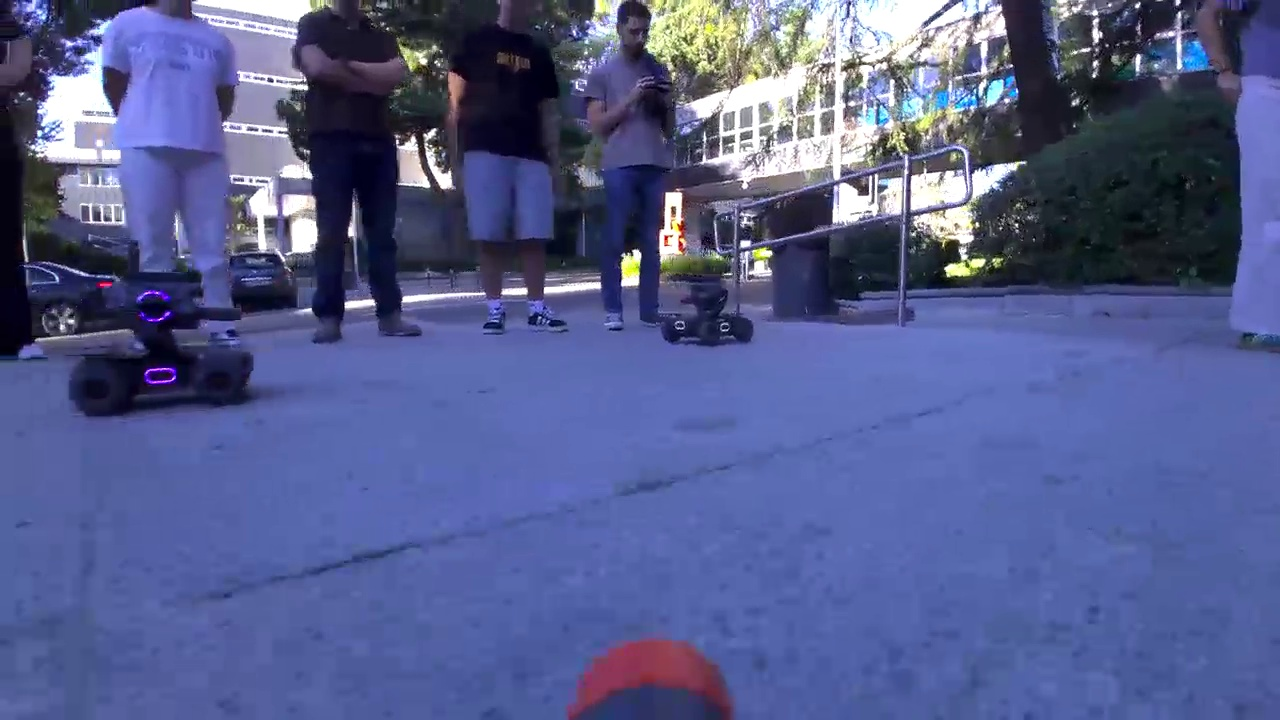robot: (65, 269, 256, 418), (659, 275, 754, 348)
